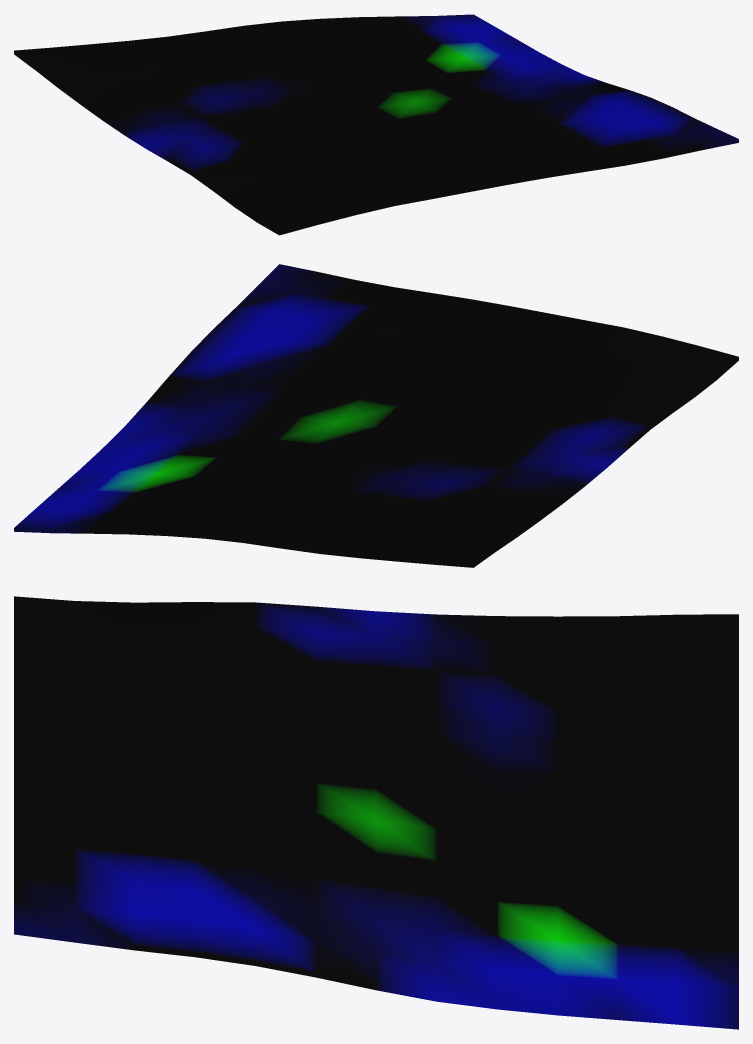
The model's file is coast_21_0.glb.
3 views of the same model, one above another, from view 1: azimuth 30°, elevation 25°; view 2: azimuth 150°, elevation 25°; view 3: azimuth 270°, elevation 25° (orthographic). The views are drawn at different scales.
Visible parts, largest first — view 1: terrain; view 2: terrain; view 3: terrain.
Boxes of the visible parts, <box> form: terrain: <box>14,14,738,235</box>; terrain: <box>14,264,738,567</box>; terrain: <box>14,596,738,1029</box>.
Size of the model in its own units: 192 by 37.74 by 192.
